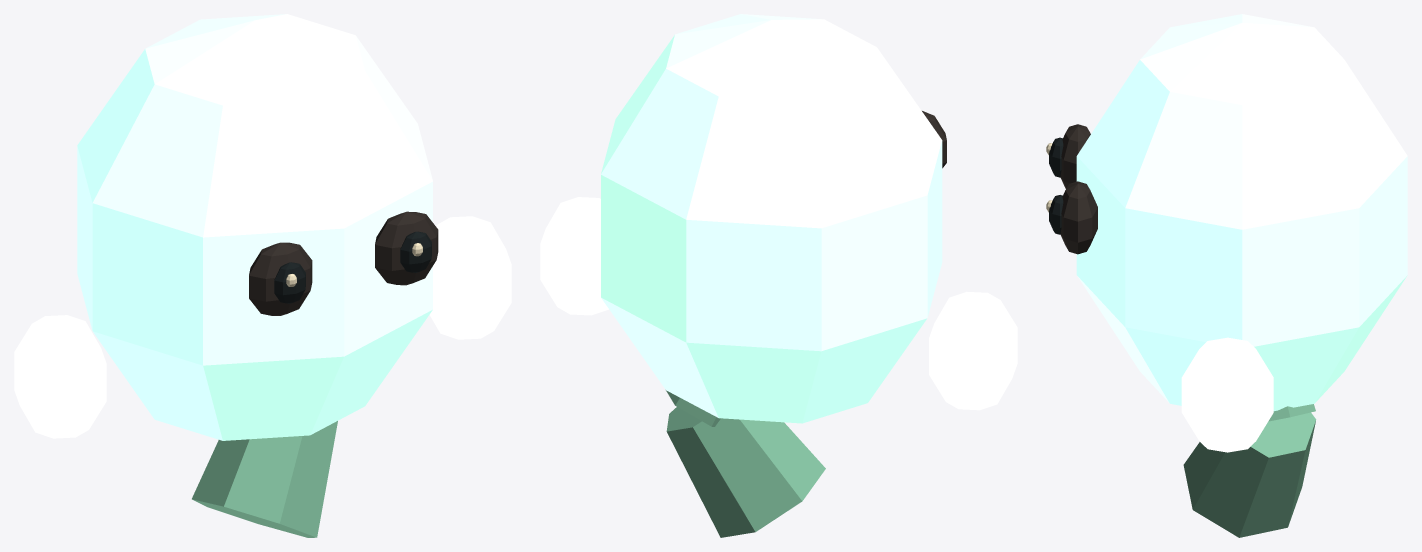
Rendered from fauna-willow_wisp.glb.
3 views of the same model, side by side, from view 1: azimuth 30°, elevation 25°; view 2: azimuth 150°, elevation 25°; view 3: azimuth 270°, elevation 25° (orthographic). The views are drawn at different scales.
Visible parts, largest first — view 1: Fauna_willow_wisp; view 2: Fauna_willow_wisp; view 3: Fauna_willow_wisp.
Part boxes in pixels (bbox=[...]): Fauna_willow_wisp: bbox=[14, 14, 511, 537]; Fauna_willow_wisp: bbox=[540, 14, 1017, 537]; Fauna_willow_wisp: bbox=[1046, 14, 1407, 537].
Bounding box in the file's own units: 1.08 × 1.12 × 0.7479.
